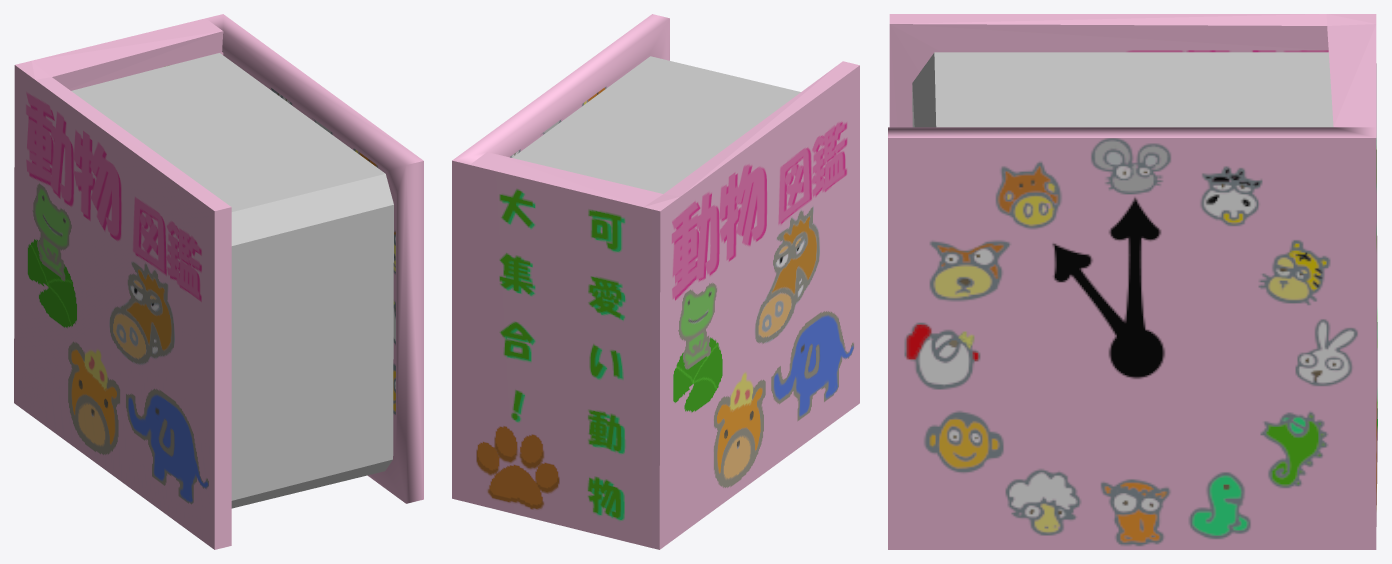
File: AnimalDictionary.FBX
The picture shows the model from 3 angles, left to right: view 1: azimuth 30°, elevation 25°; view 2: azimuth 150°, elevation 25°; view 3: azimuth 270°, elevation 25°; orthographic projection. The views are drawn at different scales.
Parts seen in each view (by area): view 1: Cover, Paper; view 2: Cover, Paper; view 3: Cover, Paper.
Part boxes in pixels (bbox=[...]): Cover: bbox=[14, 14, 423, 549]; Paper: bbox=[71, 53, 393, 508]; Cover: bbox=[452, 14, 859, 549]; Paper: bbox=[512, 56, 800, 193]; Cover: bbox=[888, 14, 1377, 549]; Paper: bbox=[912, 52, 1333, 127].
Size of the model in its own units: 11.36 by 17.83 by 18.98.
Materials: 2 (1 with a texture image).
